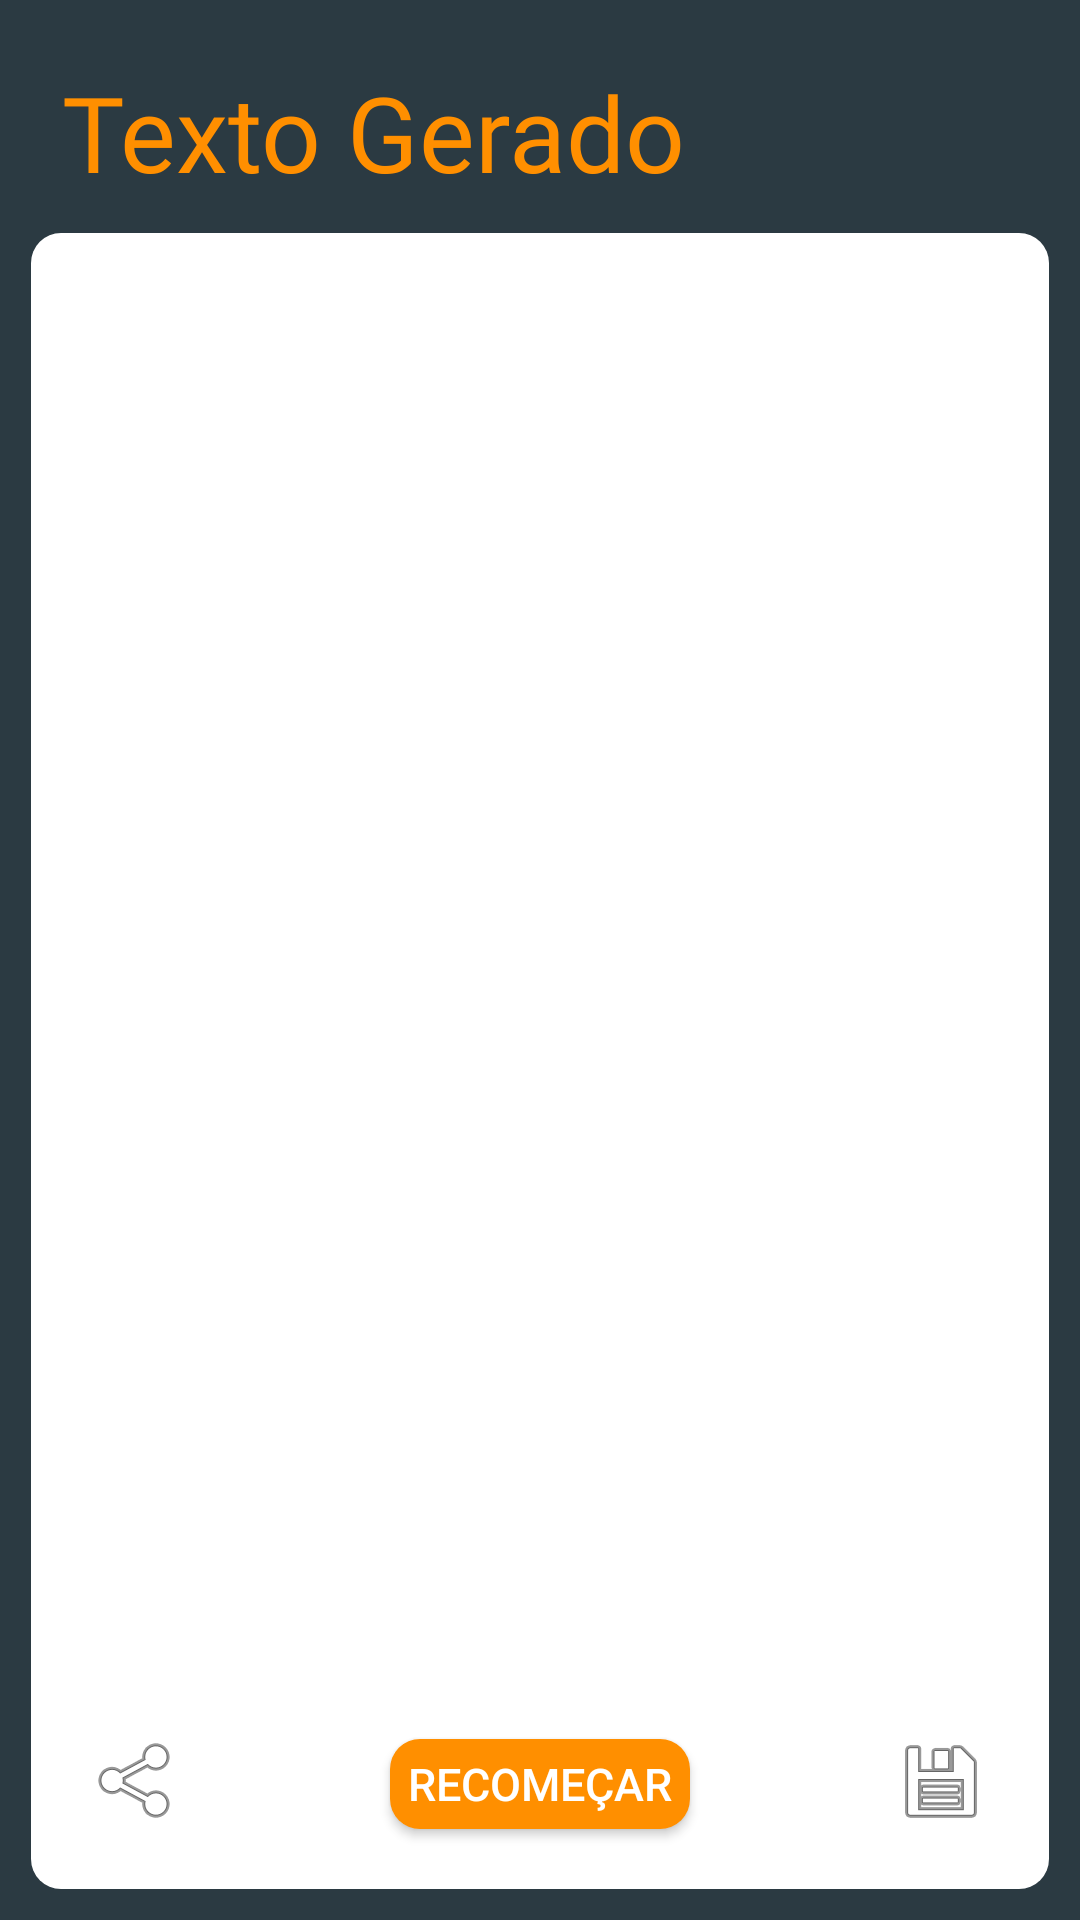

Point at icon controls on the screen. Image size 1080*1920, points as (x=x, y=y).
save: (x=941, y=1781)
share: (x=134, y=1780)
